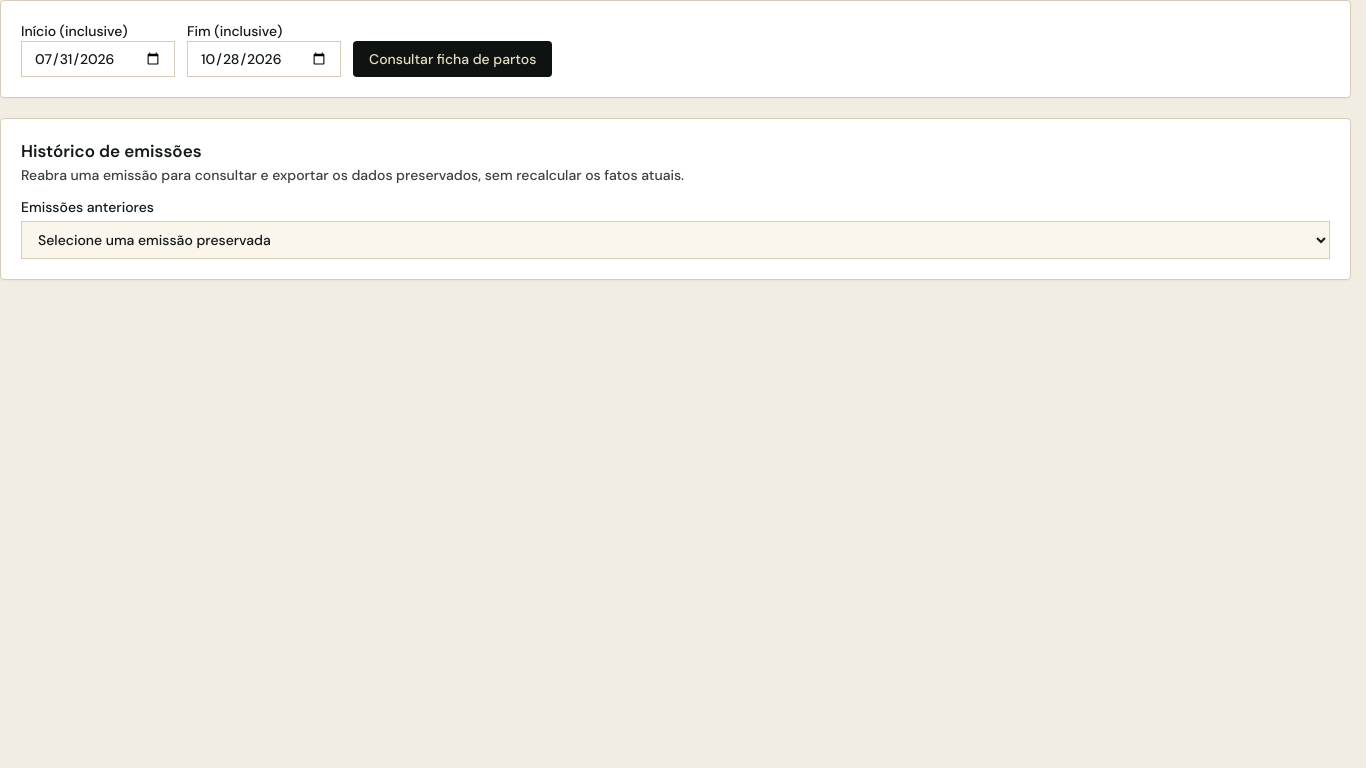
it: leitor consulta partos por GET com sítio explícito e não recebe ação de emissão
Type "2026-09-01" into the date field labelled "Início (inclusive)" at (98, 59), box top-left (21, 41), bottom-right (175, 77)
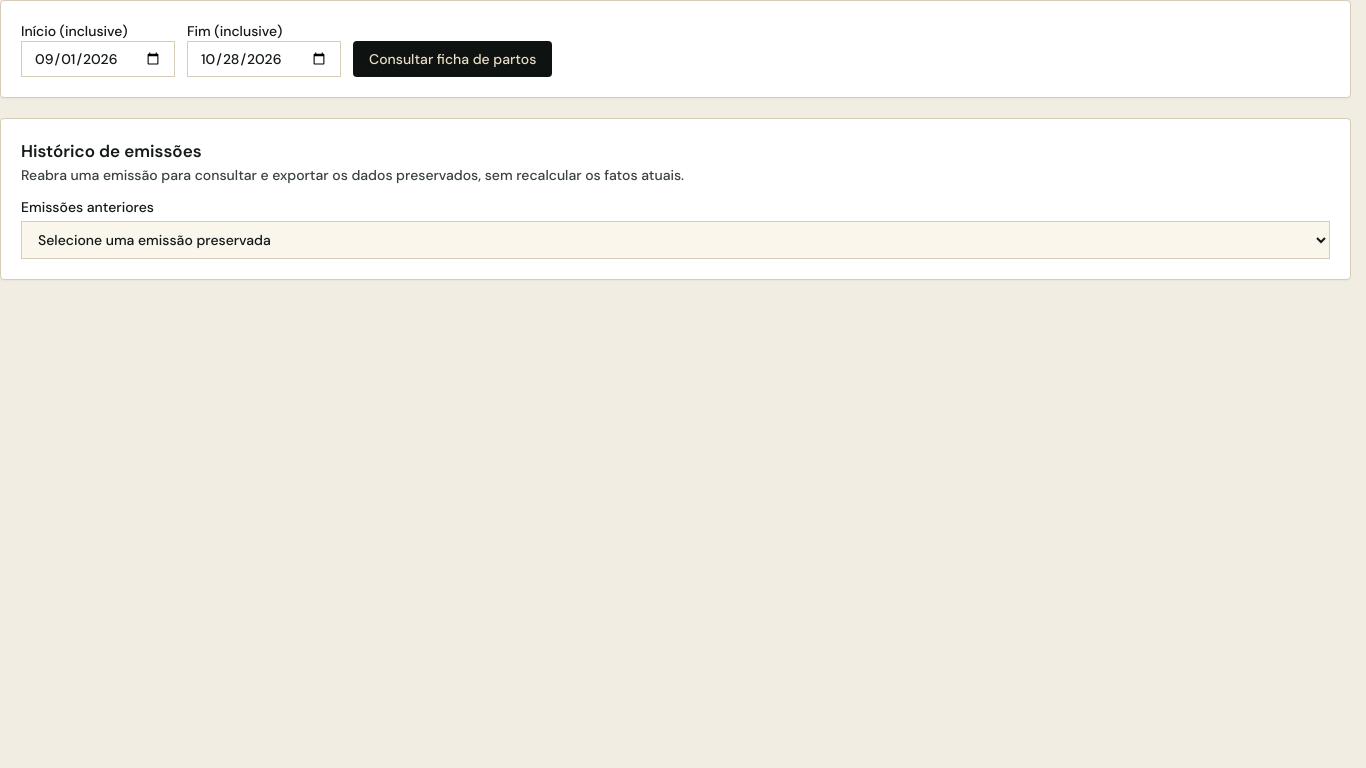
Type "2026-09-30" into the date field labelled "Fim (inclusive)" at (264, 59), box top-left (187, 41), bottom-right (341, 77)
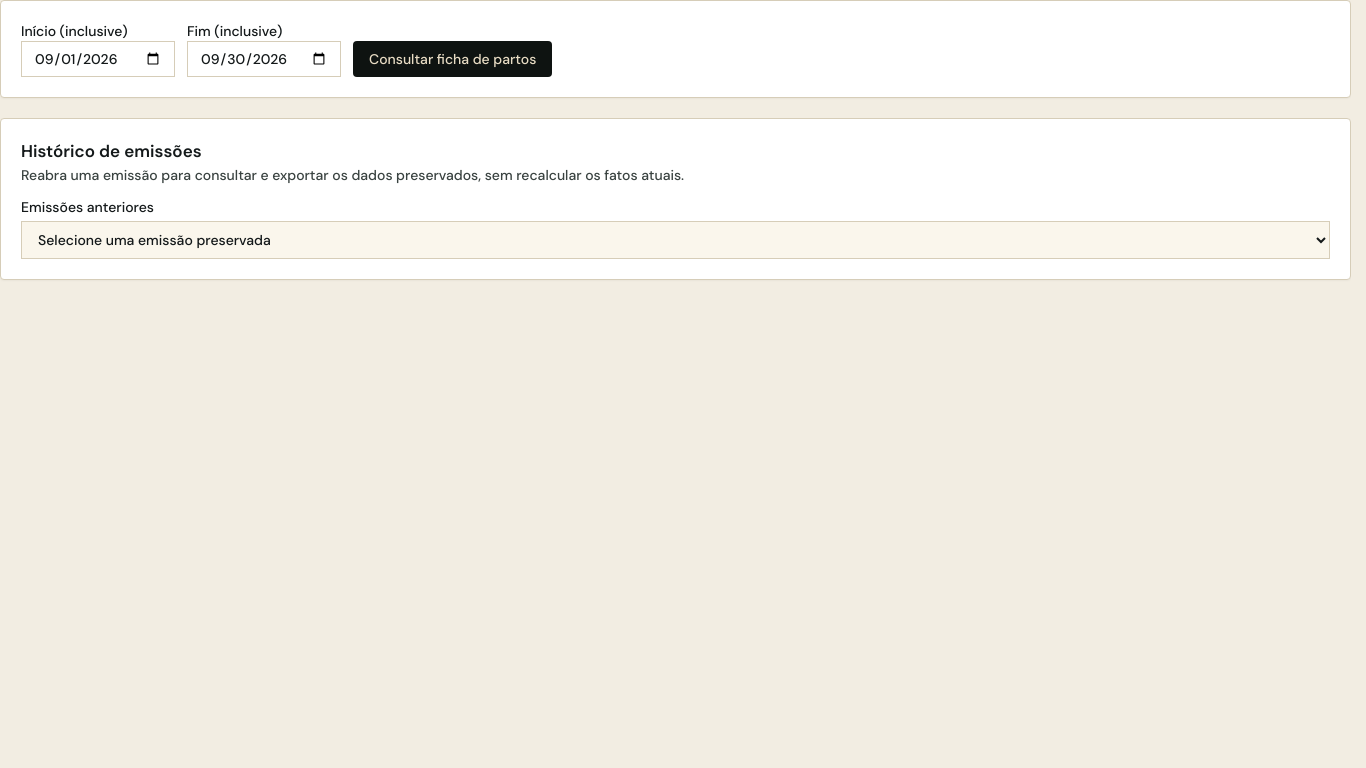
Click the button "Consultar ficha de partos" at (453, 59), box top-left (353, 41), bottom-right (552, 77)
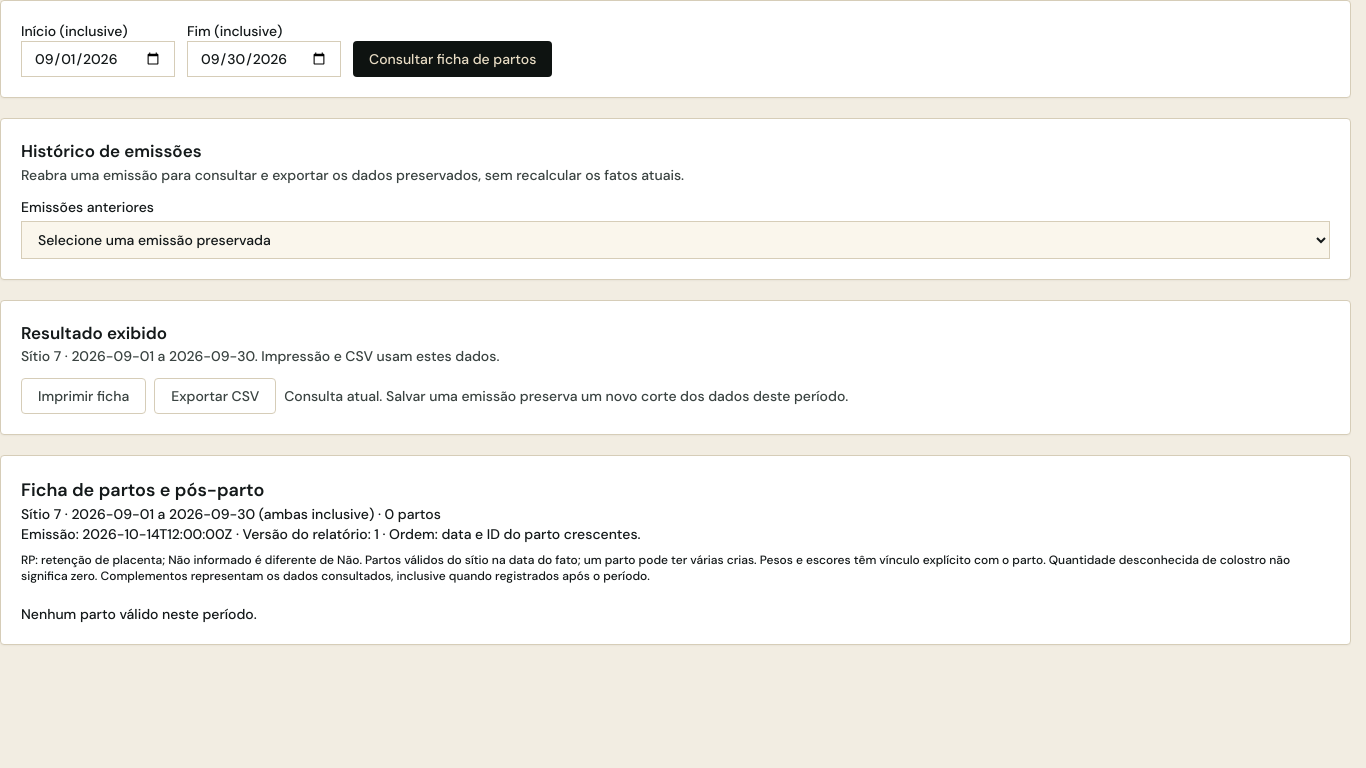
Result: the text "Nenhum parto válido neste período." is shown at top-left (21, 605), bottom-right (257, 623)
